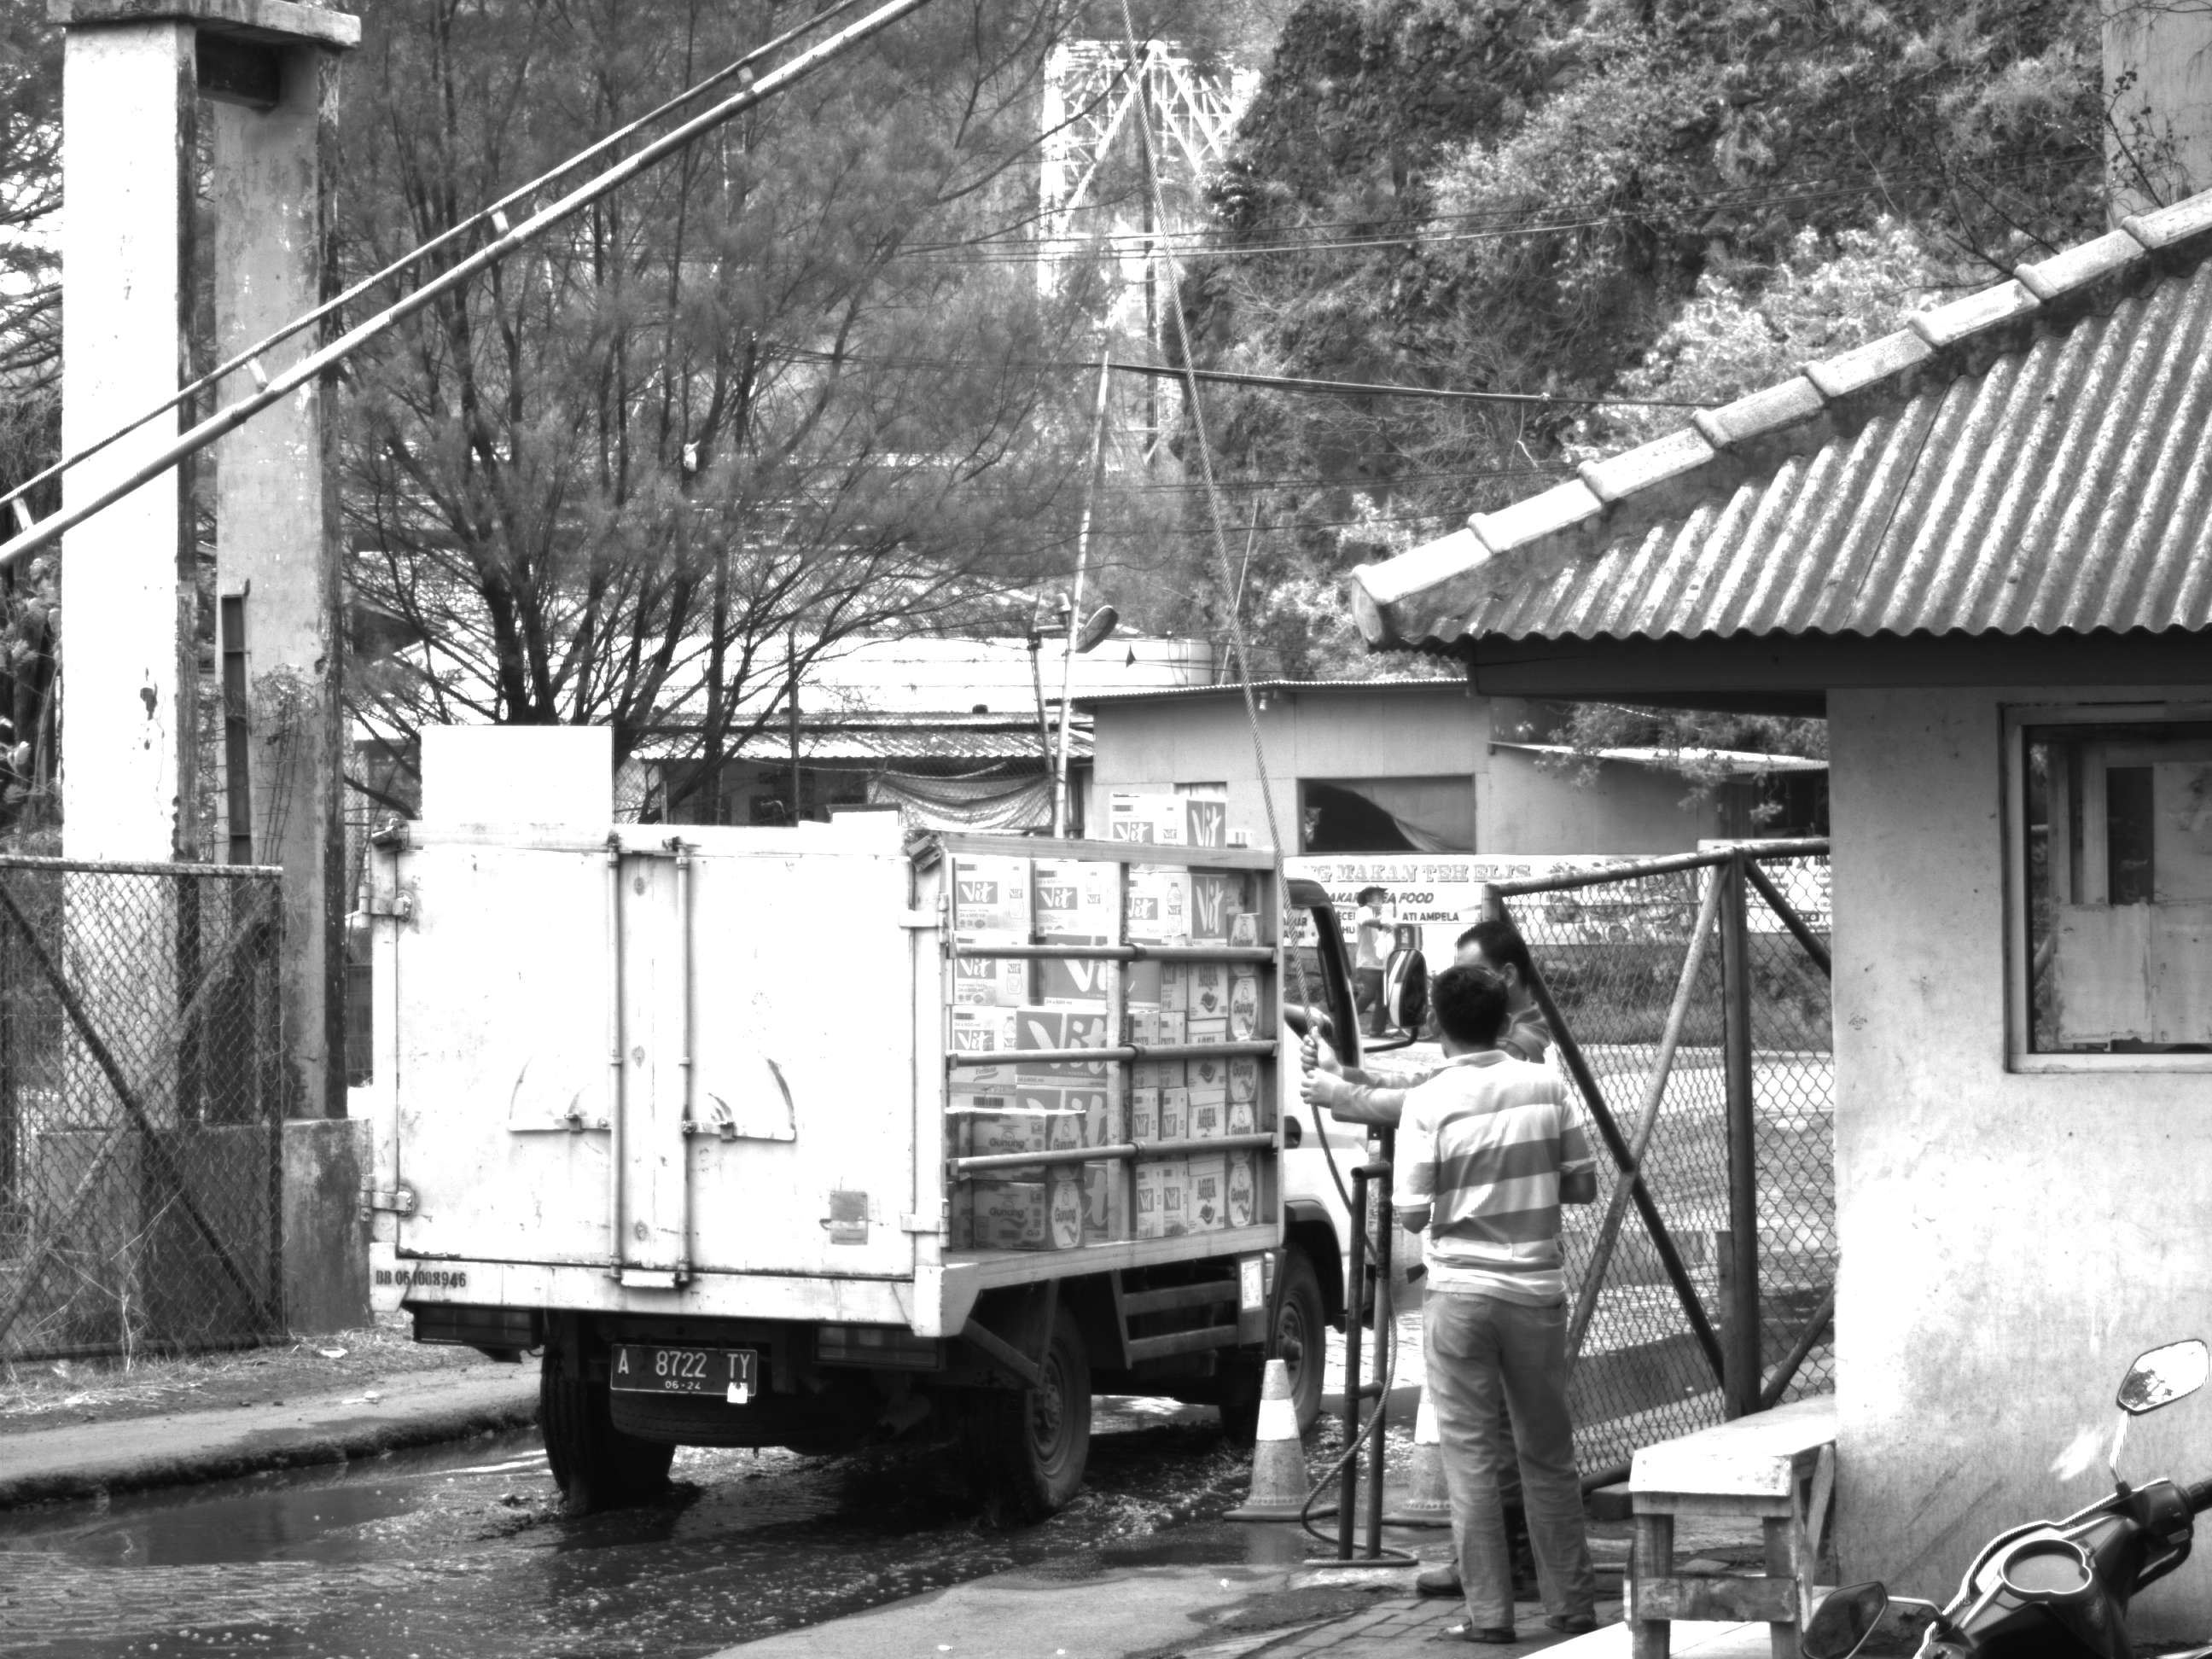day_truck_rear: (349, 699, 1104, 1503)
plate: (603, 1337, 768, 1403)
